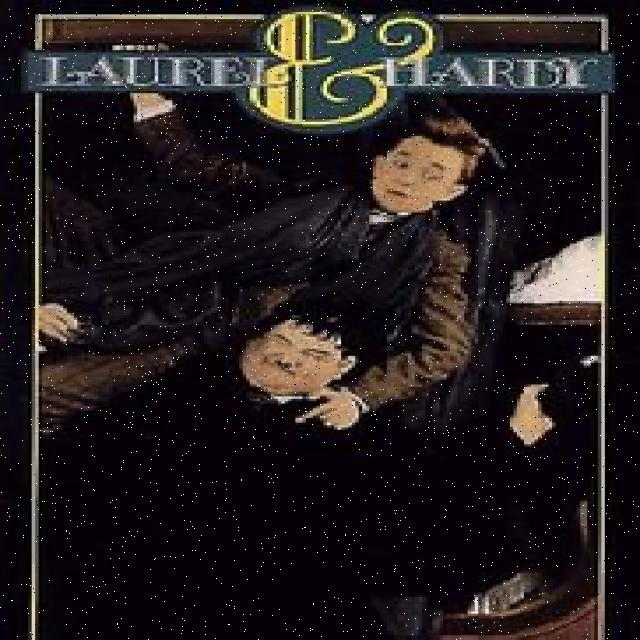movie-judul: (36, 14, 617, 114)
picture: (28, 95, 607, 639)
